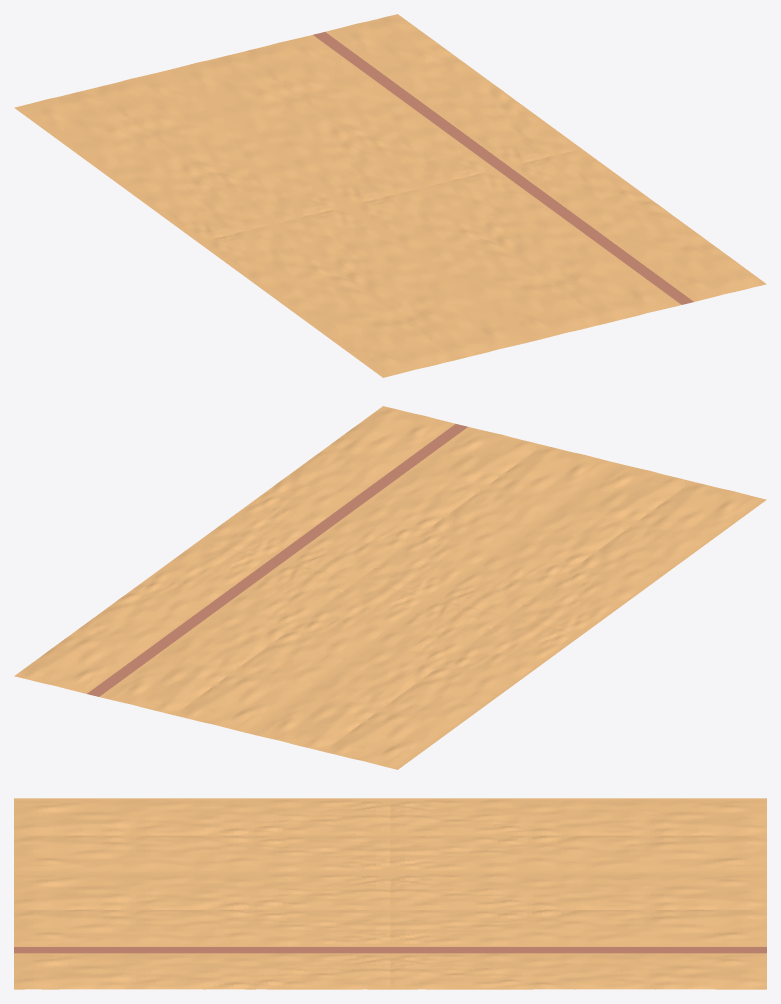
File: coboyard.fbx
The picture shows the model from 3 angles, top to bottom: view 1: azimuth 30°, elevation 25°; view 2: azimuth 150°, elevation 25°; view 3: azimuth 270°, elevation 25°; orthographic projection.
Visible parts, largest first — view 1: arde.001; view 2: arde.001; view 3: arde.001.
Boxes of the visible parts, left/top/right/bottom form: arde.001: left=14, top=14, right=766, bottom=377; arde.001: left=14, top=406, right=766, bottom=769; arde.001: left=14, top=798, right=766, bottom=989.
Size of the model in its own units: 15768 by 72.12 by 26266.
